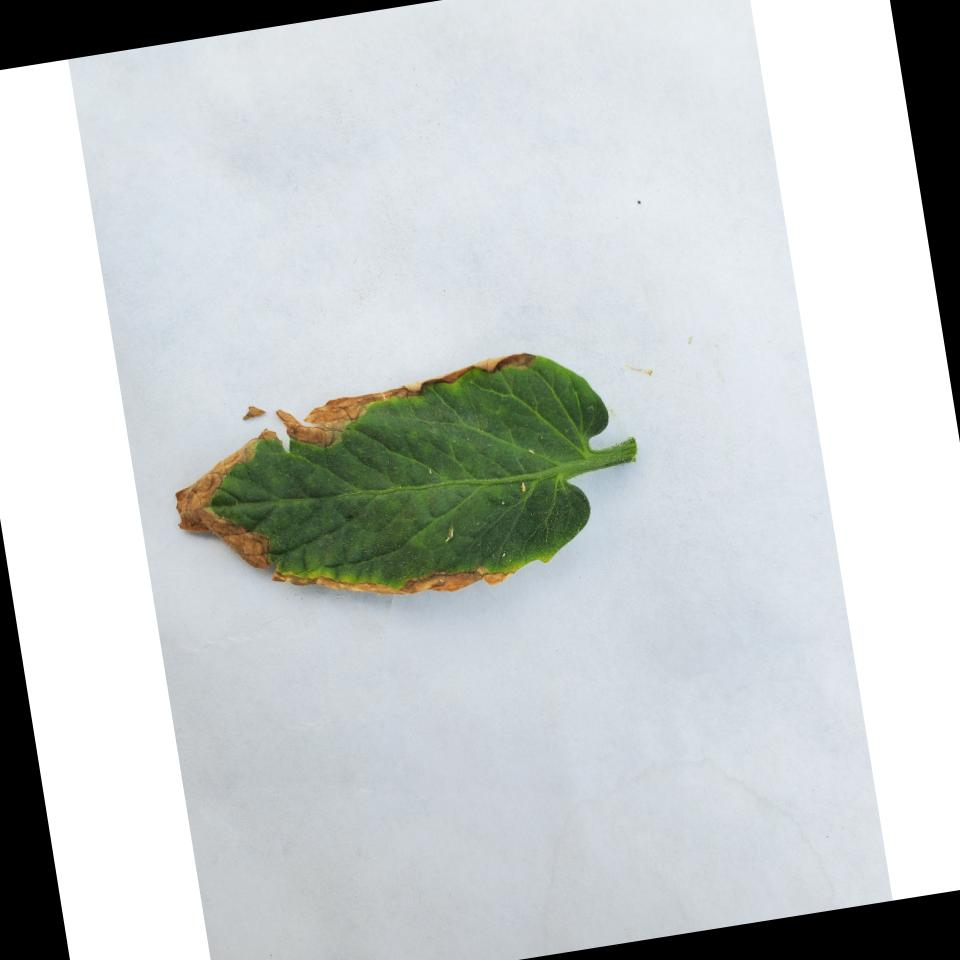tomato_bacterial_blight: (144, 321, 680, 654)
